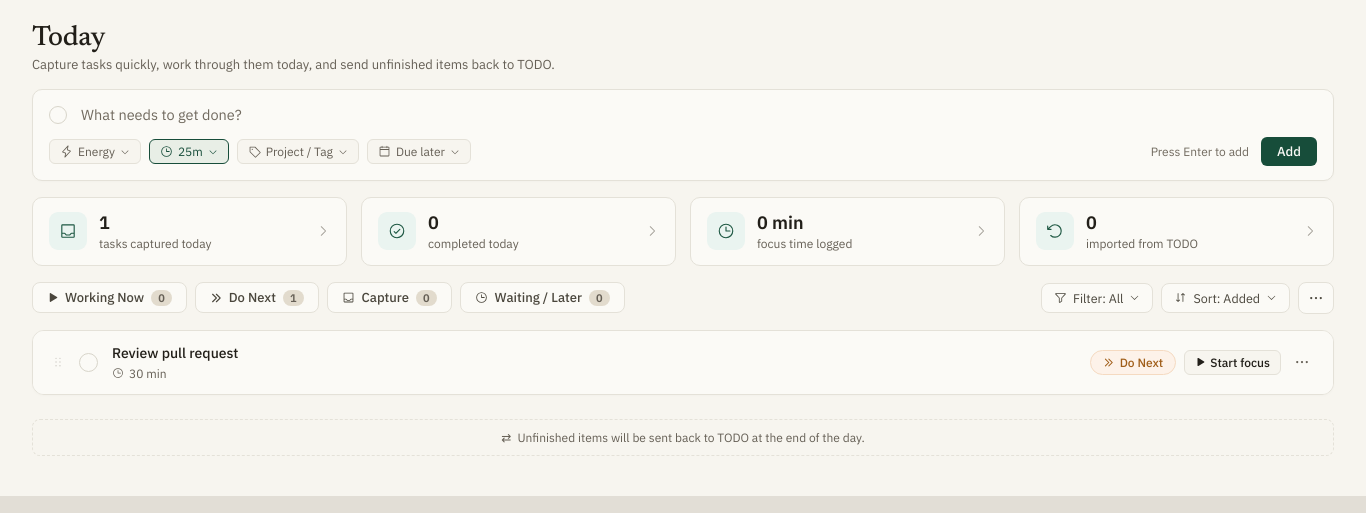
Scenario: InboxView render flows › opens and closes dropdown menu when 3 dots button is clicked
expect the text "Review pull request" is shown: met, box [112, 344, 238, 362]
Click 3 dots button to open dropdown menu
Click the button named "Task options" at (1302, 362), box [1289, 349, 1315, 375]
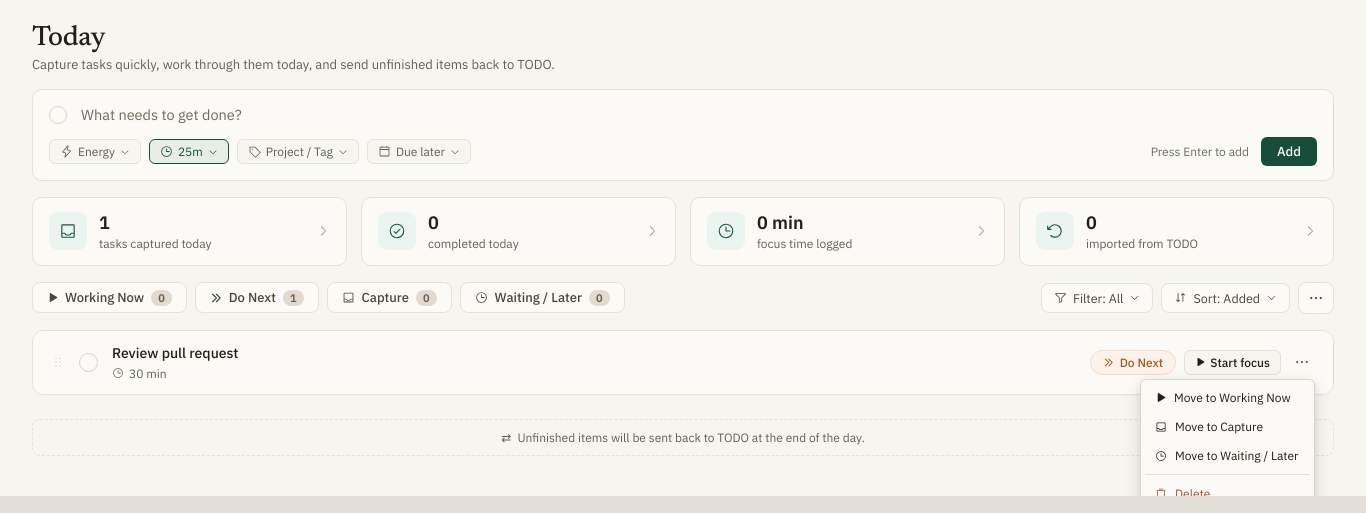
expect the menu is shown: met, box [1140, 379, 1315, 496]
expect the text "Move to Working Now" is shown: met, box [1174, 390, 1291, 405]
expect the text "Move to Capture" is shown: met, box [1175, 419, 1263, 434]
Click "Move to Working Now"
Click the menu item "Move to Working Now" at (1223, 398), box [1155, 390, 1291, 405]
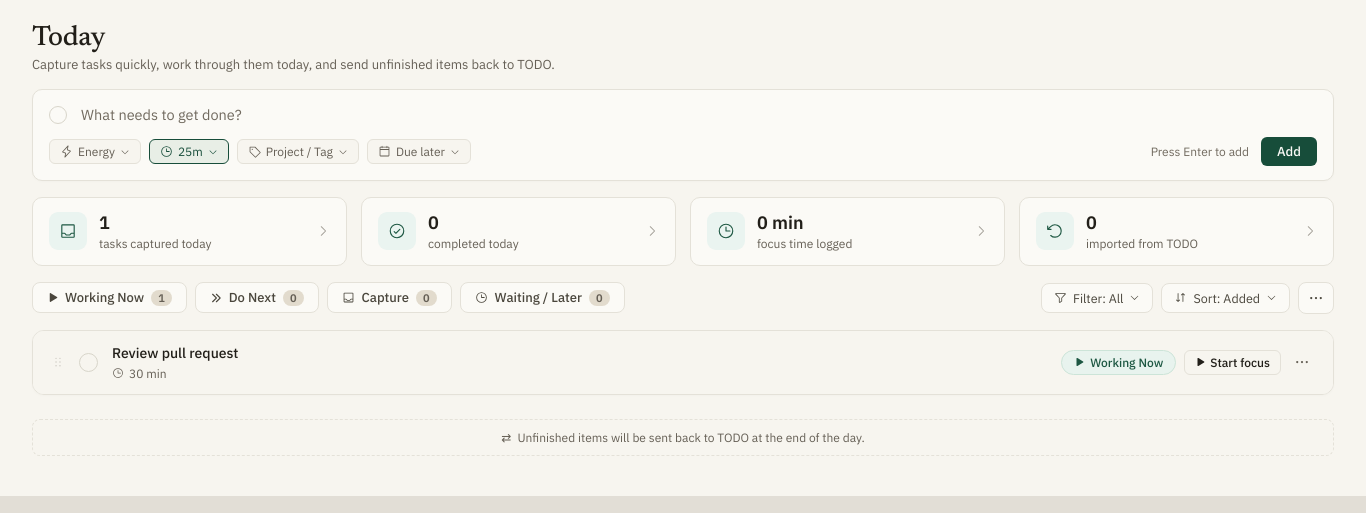
expect the menu is gone: met
